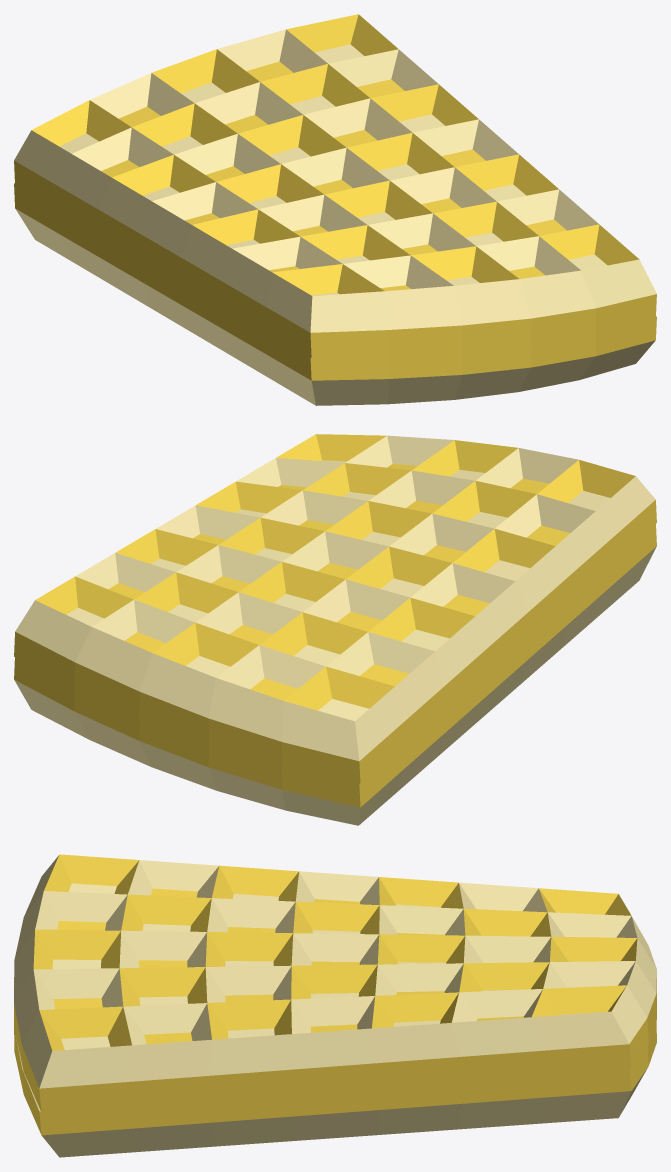
The model's file is M_waffle_da.fbx.
3 renders of one model, top to bottom at view 1: azimuth 30°, elevation 25°; view 2: azimuth 150°, elevation 25°; view 3: azimuth 270°, elevation 25°, orthographic.
Parts seen in each view (by area): view 1: Cube.022; view 2: Cube.022; view 3: Cube.022.
Part boxes in pixels (bbox=[...]): Cube.022: bbox=[14, 14, 656, 405]; Cube.022: bbox=[14, 434, 656, 825]; Cube.022: bbox=[14, 854, 656, 1157].
Bounding box in the file's own units: 39.17 × 15.9 × 63.47.
